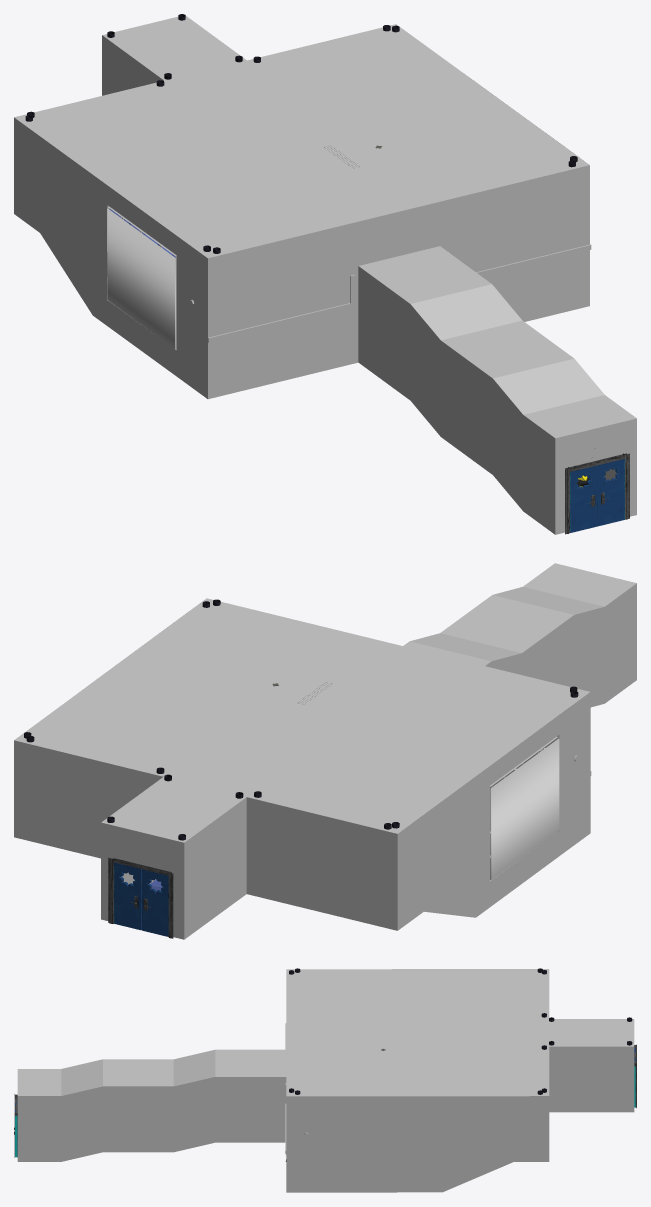
Rendered from PC_Lab_New.fbx.
3 renders of one model, top to bottom at view 1: azimuth 30°, elevation 25°; view 2: azimuth 150°, elevation 25°; view 3: azimuth 270°, elevation 25°, orthographic. The views are drawn at different scales.
Parts seen in each view (by area): view 1: Roof, Wall_W, Window_Glass, polySurface133, polySurface132, polySurface279, polySurface183; view 2: Roof, Wall_W, Window_Glass, polySurface132, polySurface133, polySurface183, Pipes; view 3: Wall_W, Roof, Pipes.
Boxes of the visible parts, x1=… form: Roof: x1=14, y1=16, x2=636, y2=438; Wall_W: x1=14, y1=35, x2=636, y2=534; Window_Glass: x1=107, y1=208, x2=175, y2=348; polySurface133: x1=570, y1=465, x2=597, y2=532; polySurface132: x1=597, y1=459, x2=624, y2=526; polySurface279: x1=190, y1=274, x2=355, y2=342; polySurface183: x1=565, y1=453, x2=629, y2=534; Roof: x1=14, y1=563, x2=636, y2=842; Wall_W: x1=14, y1=583, x2=636, y2=939; Window_Glass: x1=490, y1=738, x2=559, y2=879; polySurface132: x1=114, y1=862, x2=141, y2=930; polySurface133: x1=142, y1=869, x2=168, y2=936; polySurface183: x1=108, y1=857, x2=173, y2=938; Pipes: x1=24, y1=599, x2=578, y2=840; Wall_W: x1=17, y1=1046, x2=634, y2=1192; Roof: x1=17, y1=969, x2=634, y2=1096; Pipes: x1=289, y1=968, x2=632, y2=1094.
Bounding box in the file's own units: 43.3 × 18.52 × 88.86.
